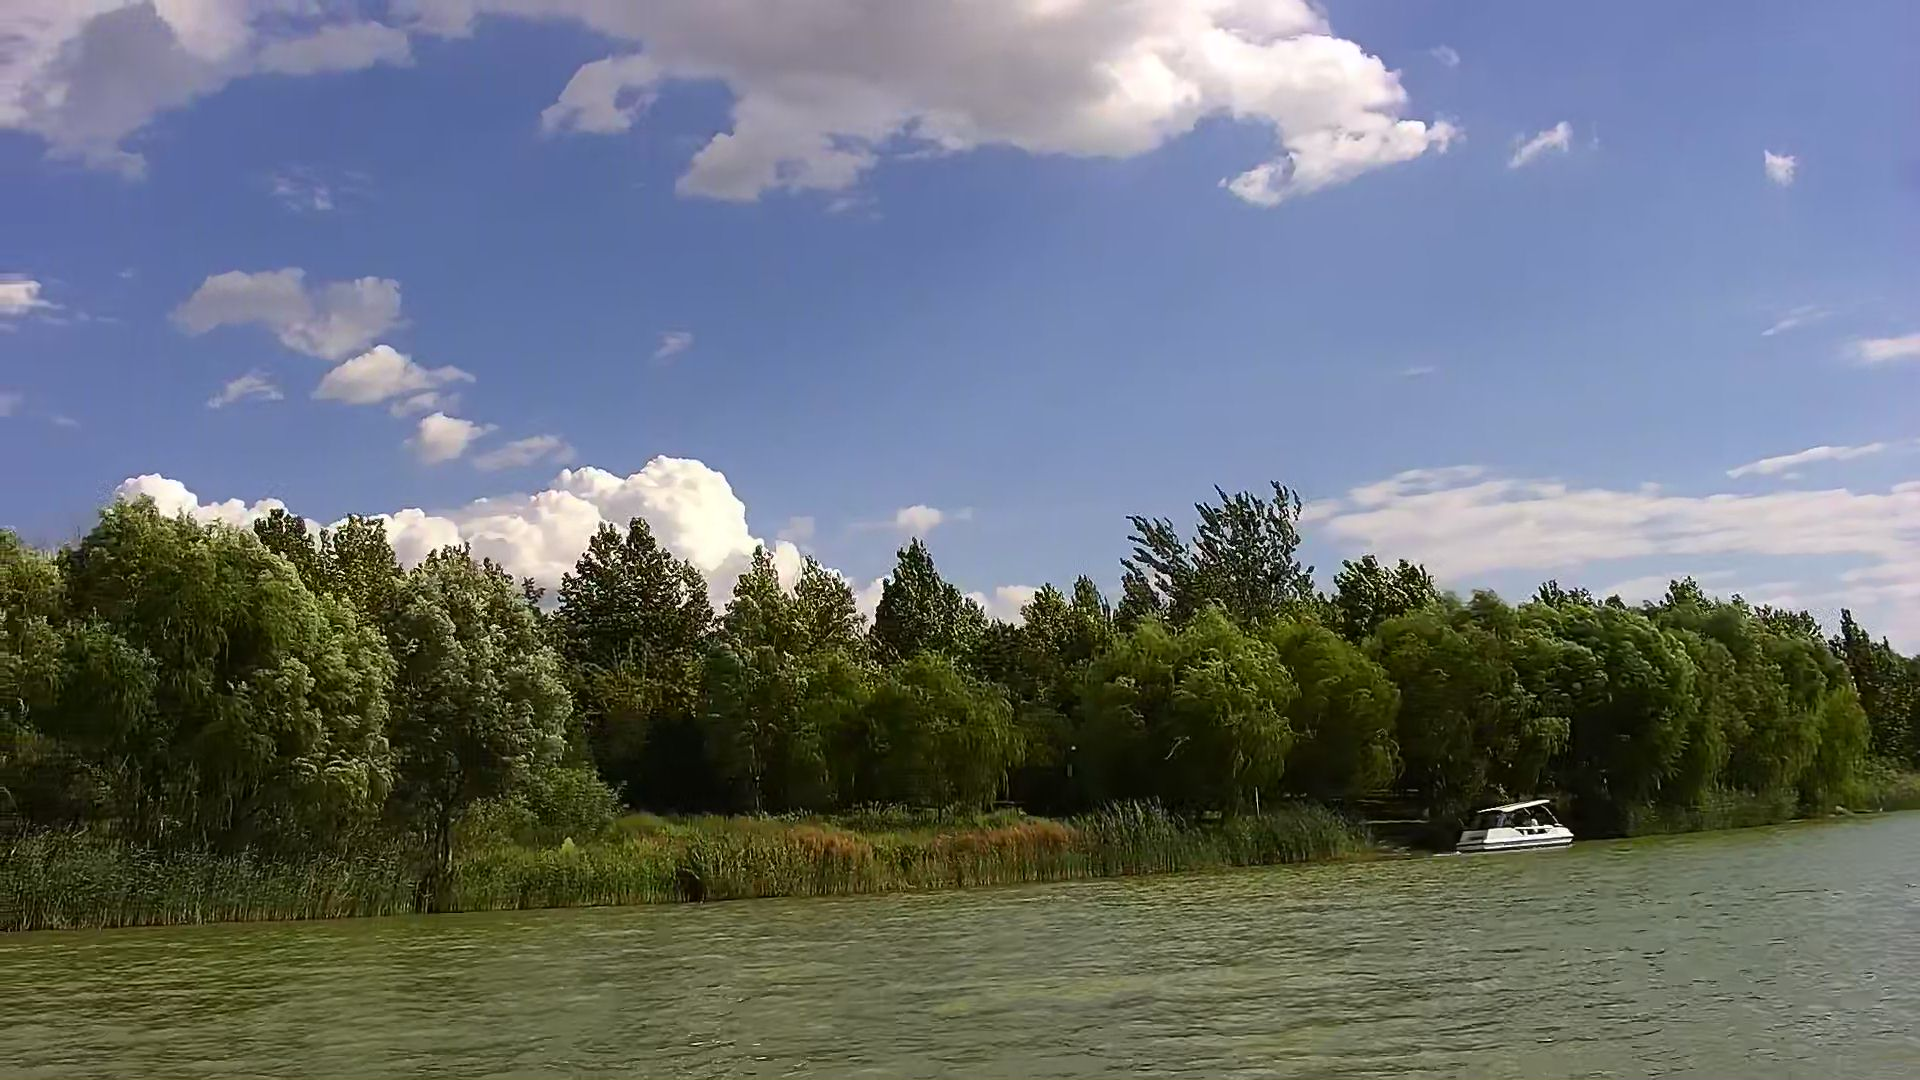boat: (1457, 796, 1577, 851)
